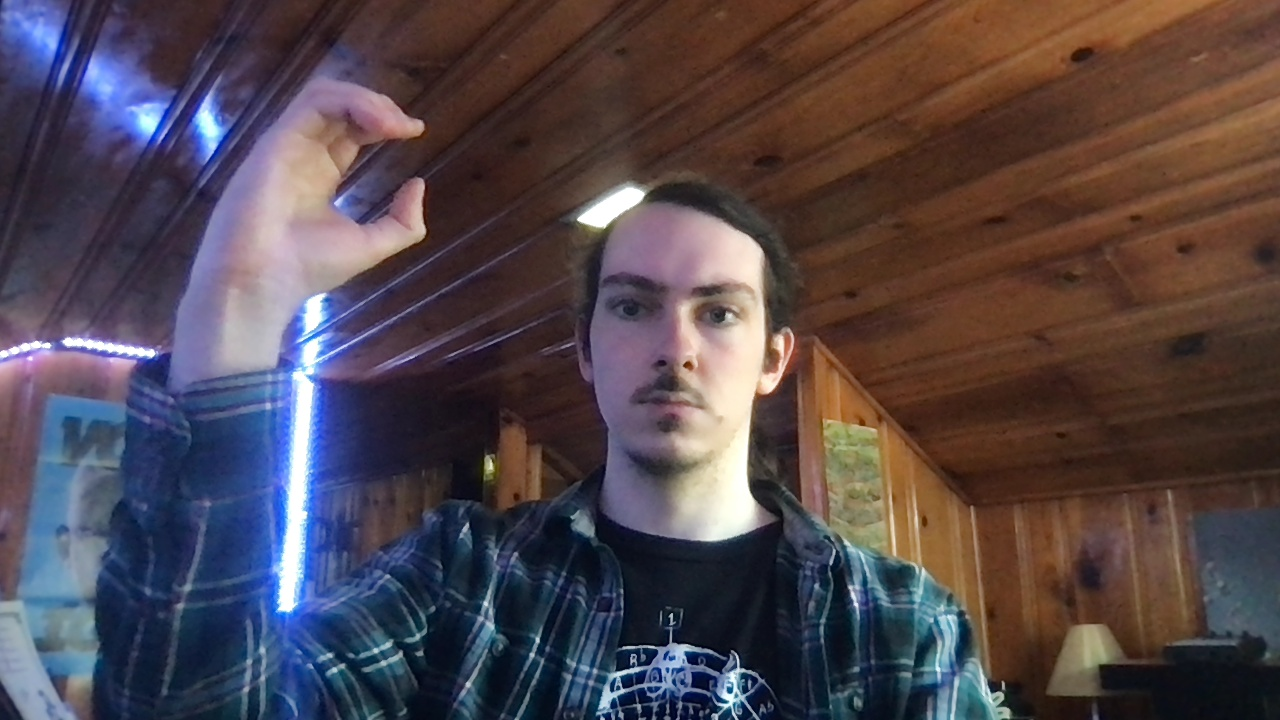c: (180, 75, 431, 304)
